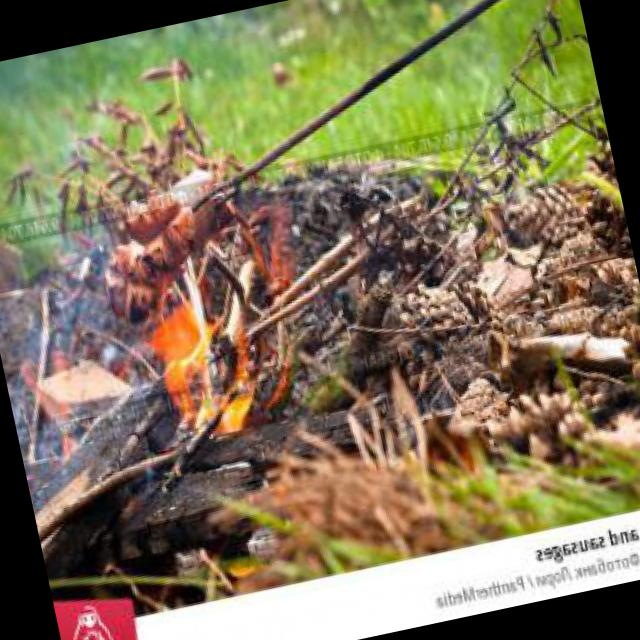fire: (119, 81, 640, 445)
smoke: (0, 177, 187, 548)
